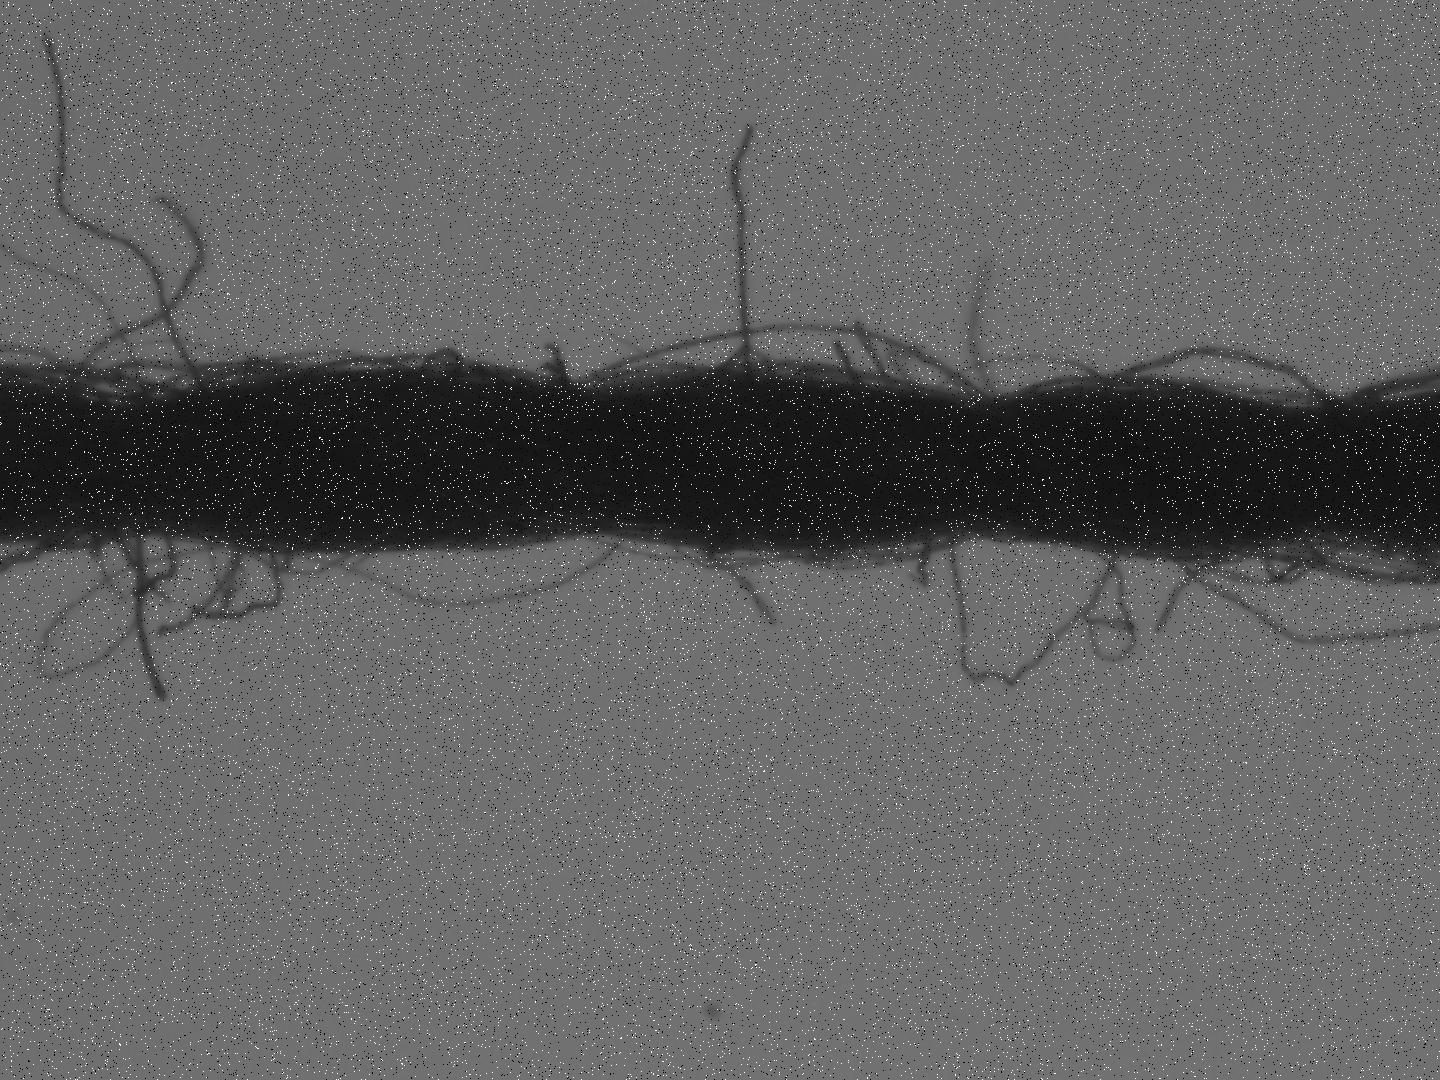loop_fiber: (578, 319, 985, 400), (940, 528, 1134, 692), (1103, 341, 1357, 428), (940, 349, 1109, 398), (5, 360, 195, 402), (1187, 537, 1335, 585), (237, 537, 384, 577), (668, 540, 808, 574), (418, 343, 463, 388)
protruding_fiber: (33, 25, 221, 397), (122, 529, 173, 710), (727, 119, 757, 390)
